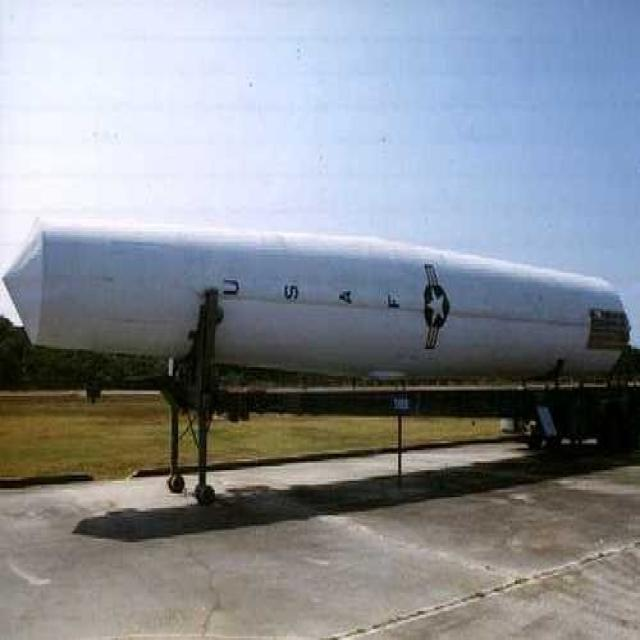missile: (4, 220, 625, 396)
